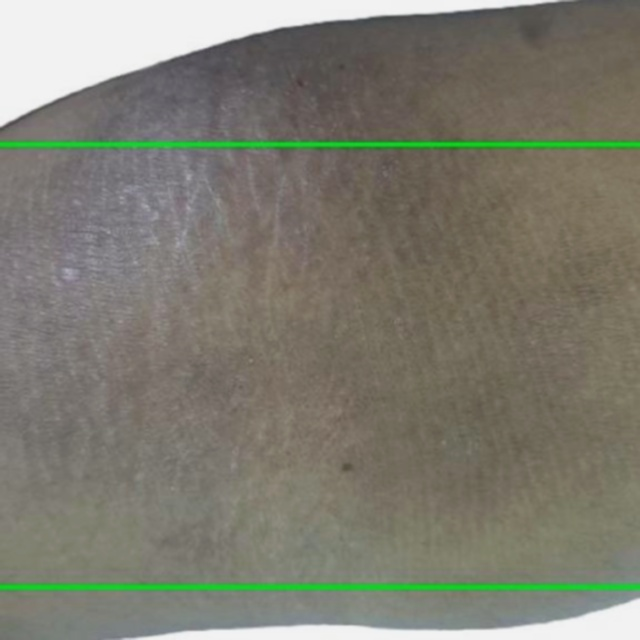Contact Dermatitis: (0, 0, 639, 144)
